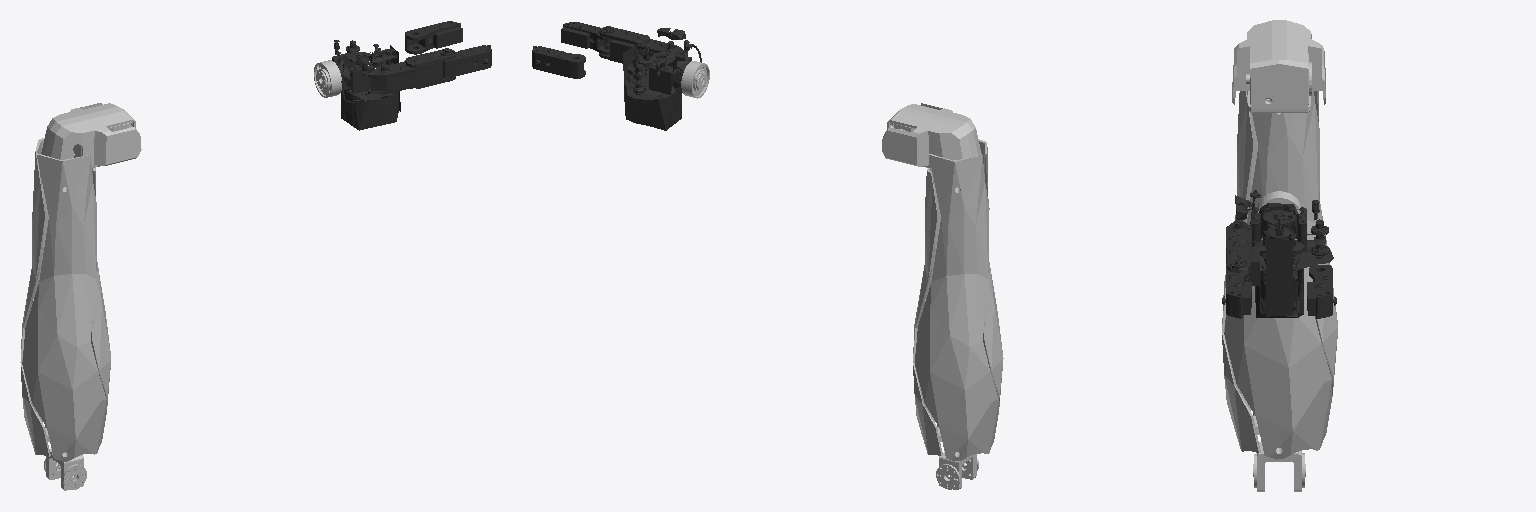
robot.urdf — QARM:
<?xml version="1.0" encoding="utf-8"?>
<!--
  GENERATED by course_project scripts/model/build_qarm_v2.py - do not edit by hand.
  Meshes and arm kinematics: Quanser QArm URDF representations (BSD-3, see LICENSE).
  Arm inertias: Quanser QArm 'Dynamic Parameters'; limits: QArm User Manual Table 7.
  Gripper frames: LuoShaoyinn/mmic-project 2b8ab95. Collision: boxes/cylinders/spheres enclosing the
  full-resolution official meshes, profile coarse-arm, buried primitives pruned (collision is never
  smaller than the visual mesh: every vertex is inside its own or, over the whole joint range, an
  adjacent link's primitives).
-->
<robot name="QARM">
  <material name="qarm_dark_grey">
    <color rgba="0.25 0.25 0.25 1" />
  </material>
  <material name="qarm_light_grey">
    <color rgba="0.80 0.80 0.80 1" />
  </material>
  <link name="world" />
  <joint name="world_base_joint" type="fixed">
    <origin rpy="0 0 0" xyz="0 0 0" />
    <parent link="world" />
    <child link="base_link" />
  </joint>
  <link name="base_link">
    <inertial>
      <origin xyz="0.000529200576288575 -2.23307396420992E-06 0.0267852902177001" rpy="0 0 0" />
      <mass value="3.89847036294307" />
      <inertia ixx="0.0259717926187233" ixy="7.41706820354147E-07" ixz="-9.20327430275286E-08" iyy="0.0237418182185852" iyz="6.90408382921997E-11" izz="0.048730018421969" />
    </inertial>
    <visual>
      <origin xyz="0 0 0" rpy="0 -0 0" />
      <geometry>
        <mesh filename="meshes/visual/base_link.stl" />
      </geometry>
      <material name="qarm_light_grey" />
    </visual>
    <collision>
      <origin xyz="-2.895575e-18 -2.895575e-18 0.04728834" rpy="1.570796 1.570796 0" />
      <geometry>
        <box size="0.09586612 0.295675 0.335675" />
      </geometry>
    </collision>
  </link>
  <link name="YAW">
    <inertial>
      <origin xyz="0 0.0003 0.1001" rpy="0 0 0" />
      <mass value="0.7906" />
      <inertia ixx="0.001556" ixy="0" ixz="0" iyy="0.0009624" iyz="-3.22449502e-20" izz="0.001489" />
    </inertial>
    <visual>
      <origin xyz="0 0 0" rpy="0 -0 0" />
      <geometry>
        <mesh filename="meshes/visual/YAW.stl" />
      </geometry>
      <material name="qarm_light_grey" />
    </visual>
    <collision>
      <origin xyz="0 -0 0.1293119" rpy="1.570796 -0 6.123234e-17" />
      <geometry>
        <box size="0.04868893 0.0677309 0.152806" />
      </geometry>
    </collision>
    <collision>
      <origin xyz="0 0 0.08895461" rpy="3.141593 0 -1.570796" />
      <geometry>
        <cylinder radius="0.07145107" length="0.02026642" />
      </geometry>
    </collision>
  </link>
  <joint name="YAW" type="revolute">
    <origin xyz="0 0 0" rpy="0 0 0" />
    <parent link="base_link" />
    <child link="YAW" />
    <axis xyz="0 0 1" />
    <limit lower="-2.967060" upper="2.967060" effort="10.6" velocity="1.570796" />
  </joint>
  <link name="BICEP">
    <inertial>
      <origin xyz="0.0196085505 -0.246382898 -0.0001" rpy="0 0 0" />
      <mass value="0.4591" />
      <inertia ixx="0.009354024" ixy="0.001308832" ixz="4.64990535e-18" iyy="0.000379176" iyz="-3.27944747e-17" izz="0.00961" />
    </inertial>
    <visual>
      <origin xyz="0 0 0" rpy="0 -0 0" />
      <geometry>
        <mesh filename="meshes/visual/BICEP.stl" />
      </geometry>
      <material name="qarm_light_grey" />
    </visual>
    <collision>
      <origin xyz="0.01756464 -0.3327599 2.538785e-06" rpy="-6.123234e-17 -1.570796 0" />
      <geometry>
        <box size="0.07148836 0.07938018 0.1010919" />
      </geometry>
    </collision>
    <collision>
      <origin xyz="0.0002518238 -0.2508797 0.001066028" rpy="3.124266 1.54754 -1.570796" />
      <geometry>
        <cylinder radius="0.03465584" length="0.1002454" />
      </geometry>
    </collision>
    <collision>
      <origin xyz="-0.0009906459 -0.1211929 0.001161547" rpy="3.024574 -1.567336 -1.570796" />
      <geometry>
        <cylinder radius="0.04724006" length="0.1785811" />
      </geometry>
    </collision>
    <collision>
      <origin xyz="0.003015744 -0.02460595 -0.0004855166" rpy="-0.1450113 -1.555297 1.570796" />
      <geometry>
        <cylinder radius="0.03723188" length="0.02758156" />
      </geometry>
    </collision>
  </link>
  <joint name="SHOULDER" type="revolute">
    <origin xyz="0 0 0.1397714" rpy="-1.5707963267949 0 0" />
    <parent link="YAW" />
    <child link="BICEP" />
    <axis xyz="0 0 1" />
    <limit lower="-1.483530" upper="1.483530" effort="21.2" velocity="1.570796" />
  </joint>
  <link name="FOREARM">
    <inertial>
      <origin xyz="0.0316077014 0.153169426 -0.002" rpy="0 0 0" />
      <mass value="0.269" />
      <inertia ixx="0.002032978" ixy="-0.000252154" ixz="-3.41873056e-19" iyy="0.000303922" iyz="-5.68138162e-20" izz="0.001976" />
    </inertial>
    <visual>
      <origin xyz="0 0 0" rpy="0 -0 0" />
      <geometry>
        <mesh filename="meshes/visual/FOREARM.stl" />
      </geometry>
      <material name="qarm_light_grey" />
    </visual>
    <collision>
      <origin xyz="0.0124297 0.08177845 0.0002797372" rpy="0.152174 1.566863 1.570796" />
      <geometry>
        <cylinder radius="0.03232471" length="0.1920151" />
      </geometry>
    </collision>
    <collision>
      <origin xyz="0.08001431 0.2088195 5.882925e-05" rpy="-2.708859e-20 0.00378953 3.106735" />
      <geometry>
        <box size="0.02469205 0.04413417 0.09927912" />
      </geometry>
    </collision>
    <collision>
      <origin xyz="0.03909324 0.202416 0.002087744" rpy="-3.141593 0 3.002517" />
      <geometry>
        <box size="0.06530222 0.06939311 0.07617549" />
      </geometry>
    </collision>
  </link>
  <joint name="ELBOW" type="revolute">
    <origin xyz="0.0500000000000004 -0.350000000000015 0" rpy="0 0 -1.42889927219074" />
    <parent link="BICEP" />
    <child link="FOREARM" />
    <axis xyz="0 0 1" />
    <limit lower="-1.658063" upper="1.308997" effort="10.6" velocity="1.570796" />
  </joint>
  <link name="END-EFFECTOR">
    <inertial>
      <origin xyz="-0.0113743 9.67484374e-16 0.0622" rpy="0 0 0" />
      <mass value="0.257" />
      <inertia ixx="0.00112" ixy="4.2845727e-19" ixz="1.23190347e-18" iyy="0.0009994" iyz="1.23137056e-18" izz="0.0006528" />
    </inertial>
    <visual>
      <origin xyz="0 0 0" rpy="0 -0 0" />
      <geometry>
        <mesh filename="meshes/visual/END-EFFECTOR.stl" />
      </geometry>
      <material name="qarm_light_grey" />
    </visual>
    <collision>
      <origin xyz="0 0 0.0048" rpy="3.141593 0 -1.570796" />
      <geometry>
        <cylinder radius="0.0177" length="0.0148" />
      </geometry>
    </collision>
  </link>
  <joint name="WRIST" type="revolute">
    <origin xyz="0.0336611536380097 0.235607569369425 0" rpy="-1.5707963267949 0 -0.141897054604159" />
    <parent link="FOREARM" />
    <child link="END-EFFECTOR" />
    <axis xyz="0 0 1" />
    <limit lower="-2.792527" upper="2.792527" effort="4.1" velocity="1.570796" />
  </joint>
  <link name="tcp">
    <inertial>
      <origin xyz="0 0 0" rpy="0 0 0" />
      <mass value="0.0001" />
      <inertia ixx="1e-09" ixy="0" ixz="0" iyy="1e-09" iyz="0" izz="1e-09" />
    </inertial>
  </link>
  <joint name="tcp_joint" type="fixed">
    <origin xyz="0 0 0.162" rpy="0 0 0" />
    <parent link="END-EFFECTOR" />
    <child link="tcp" />
  </joint>
  <link name="gripper_base_link">
    <inertial>
      <origin xyz="0 0.0457249992 -0.0114812497" rpy="0 0 0" />
      <mass value="0.005" />
      <inertia ixx="1e-07" ixy="0" ixz="0" iyy="1e-07" iyz="0" izz="1e-07" />
    </inertial>
    <visual>
      <origin xyz="0 0.017 0" rpy="-1.57079633 0 0" />
      <geometry>
        <mesh filename="meshes/visual/gripper_base_link.stl" />
      </geometry>
      <material name="qarm_dark_grey" />
    </visual>
    <collision>
      <origin xyz="0.0001747752 0.07822772 -0.03612225" rpy="1.564767 0.006030566 1.570796" />
      <geometry>
        <box size="0.01180058 0.03423404 0.03900235" />
      </geometry>
    </collision>
    <collision>
      <origin xyz="0.007270592 0.05147455 -0.03702257" rpy="-1.600924 -1.569901 1.570796" />
      <geometry>
        <box size="0.03624421 0.05154783 0.05490388" />
      </geometry>
    </collision>
    <collision>
      <origin xyz="0.01351203 0.02825289 0.001173181" rpy="0.1590071 0.03895764 -2.345292" />
      <geometry>
        <box size="0.03011996 0.03774931 0.05125755" />
      </geometry>
    </collision>
    <collision>
      <origin xyz="-0.03514803 0.05292195 0.001020494" rpy="4.543422e-17 0.177789 -0.7520336" />
      <geometry>
        <box size="0.009530679 0.01521615 0.0342406" />
      </geometry>
    </collision>
    <collision>
      <origin xyz="0.03179818 0.04399984 -0.008989801" rpy="0.8277827 1.069491 0.05703531" />
      <geometry>
        <box size="0.01978639 0.02944578 0.0368748" />
      </geometry>
    </collision>
    <collision>
      <origin xyz="0.02628574 0.04761301 0.01110825" rpy="-3.141593 -1.14541e-16 -0.1161816" />
      <geometry>
        <box size="0.02221351 0.03511971 0.0421085" />
      </geometry>
    </collision>
    <collision>
      <origin xyz="-0.01004185 0.06853301 -0.004551729" rpy="1.59332 0.02678489 2.270132" />
      <geometry>
        <box size="0.02466603 0.04040142 0.05152688" />
      </geometry>
    </collision>
    <collision>
      <origin xyz="0.005186026 0.05420838 0.0004283725" rpy="1.59144 -3.757793e-17 -0.8178233" />
      <geometry>
        <box size="0.02688403 0.04861659 0.05356512" />
      </geometry>
    </collision>
    <collision>
      <origin xyz="-0.01260645 0.02355968 -0.003496479" rpy="1.370168 -0.09838188 -2.413349" />
      <geometry>
        <box size="0.02470633 0.04818149 0.05575973" />
      </geometry>
    </collision>
    <collision>
      <origin xyz="-0.02973278 0.04750178 -0.0006308756" rpy="-2.916904 -0.2347575 2.22631" />
      <geometry>
        <box size="0.011819 0.02037275 0.03431789" />
      </geometry>
    </collision>
  </link>
  <joint name="gripper_mount" type="fixed">
    <origin xyz="0 0 0" rpy="1.57079633 0 1.57079633" />
    <parent link="END-EFFECTOR" />
    <child link="gripper_base_link" />
  </joint>
  <link name="Link1A">
    <inertial>
      <origin xyz="0.031641642 -0.00293167261 -2.68506468e-19" rpy="0 0 0" />
      <mass value="0.005" />
      <inertia ixx="1e-07" ixy="0" ixz="0" iyy="1e-07" iyz="0" izz="1e-07" />
    </inertial>
    <visual>
      <origin xyz="0.0353 0 0" rpy="1.57079633 1.2246468e-16 -3.14159265" />
      <geometry>
        <mesh filename="meshes/visual/LINK1A.stl" />
      </geometry>
      <material name="qarm_dark_grey" />
    </visual>
    <collision>
      <origin xyz="0.001880768 -2.03802e-05 -8.806878e-18" rpy="-1.570796 -5.77271e-17 -1.585083" />
      <geometry>
        <box size="0.02039559 0.0237 0.0394601" />
      </geometry>
    </collision>
    <collision>
      <origin xyz="0.07229242 0.0001745417 3.314327e-18" rpy="-6.534135e-17 -1.815548e-16 0.03384539" />
      <geometry>
        <box size="0.01909041 0.02061038 0.0363732" />
      </geometry>
    </collision>
    <collision>
      <origin xyz="0.04251507 -0.003300787 -0.002090328" rpy="1.578228 -5.772855e-17 -1.585083" />
      <geometry>
        <box size="0.02579476 0.02600035 0.05228032" />
      </geometry>
    </collision>
    <collision>
      <origin xyz="0.04182102 0.0003232787 0.01233788" rpy="-3.512906e-14 -1.569004 0.01425238" />
      <geometry>
        <box size="0.005409164 0.01985234 0.05049457" />
      </geometry>
    </collision>
  </link>
  <joint name="Joint1A" type="revolute">
    <origin xyz="-0.0305 0.0515 0" rpy="0 0 1.57079633" />
    <parent link="gripper_base_link" />
    <child link="Link1A" />
    <axis xyz="0 0 1" />
    <limit lower="-0.1616" upper="0.0500" effort="1.9" velocity="2.0" />
  </joint>
  <link name="Link2A">
    <inertial>
      <origin xyz="0.020667342 0.0016840014 -0.000175000504" rpy="0 0 0" />
      <mass value="0.003" />
      <inertia ixx="1e-07" ixy="0" ixz="0" iyy="1e-07" iyz="0" izz="1e-07" />
    </inertial>
    <visual>
      <origin xyz="0.02 0.01 -0.015" rpy="1.57079633 1.2246468e-16 -3.14159265" />
      <geometry>
        <mesh filename="meshes/visual/LINK2A.stl" />
      </geometry>
      <material name="qarm_dark_grey" />
    </visual>
    <collision>
      <origin xyz="0.02061175 0.001503913 -0.0001750005" rpy="-0.02782493 1.570796 0" />
      <geometry>
        <box size="0.0217 0.02303058 0.05918772" />
      </geometry>
    </collision>
  </link>
  <joint name="Joint2A" type="revolute">
    <origin xyz="0.07 0 0" rpy="0 0 0" />
    <parent link="Link1A" />
    <child link="Link2A" />
    <axis xyz="0 0 1" />
    <limit lower="-0.1257" upper="0.0500" effort="1.9" velocity="2.0" />
  </joint>
  <link name="Link1B">
    <inertial>
      <origin xyz="0.031641642 0.00293167261 0.000175000089" rpy="0 0 0" />
      <mass value="0.005" />
      <inertia ixx="1e-07" ixy="0" ixz="0" iyy="1e-07" iyz="0" izz="1e-07" />
    </inertial>
    <visual>
      <origin xyz="0.0353 0 0.017" rpy="-1.57079633 0 3.14159265" />
      <geometry>
        <mesh filename="meshes/visual/LINK1B.stl" />
      </geometry>
      <material name="qarm_dark_grey" />
    </visual>
    <collision>
      <origin xyz="0.003285769 4.045369e-05 0.001" rpy="-1.570796 5.94766e-17 1.585083" />
      <geometry>
        <box size="0.02039559 0.02205 0.04227039" />
      </geometry>
    </collision>
    <collision>
      <origin xyz="0.04281185 0.003305027 0.0004284998" rpy="-1.570796 1.215774e-16 1.585083" />
      <geometry>
        <box size="0.02579476 0.029543 0.0484313" />
      </geometry>
    </collision>
    <collision>
      <origin xyz="0.0694505 8.839648e-05 -0.00931391" rpy="-1.570796 -0 3.141593" />
      <geometry>
        <sphere radius="0.01072086" />
      </geometry>
    </collision>
    <collision>
      <origin xyz="0.07140457 0.002060662 0.00856829" rpy="3.061751 -0.07754674 1.488037" />
      <geometry>
        <box size="0.01476701 0.01726665 0.01854675" />
      </geometry>
    </collision>
    <collision>
      <origin xyz="0.0708884 -0.006294471 0.01211175" rpy="-3.078942 -1.570796 0" />
      <geometry>
        <box size="0.0051625 0.005741029 0.01643748" />
      </geometry>
    </collision>
  </link>
  <joint name="Joint1B" type="revolute">
    <origin xyz="0.0305 0.0515 0" rpy="0 0 1.57079633" />
    <parent link="gripper_base_link" />
    <child link="Link1B" />
    <axis xyz="0 0 1" />
    <limit lower="-0.0500" upper="0.1616" effort="1.9" velocity="2.0" />
  </joint>
  <link name="Link2B">
    <inertial>
      <origin xyz="0.020667342 -0.0016840014 0.000175000504" rpy="0 0 0" />
      <mass value="0.003" />
      <inertia ixx="1e-07" ixy="0" ixz="0" iyy="1e-07" iyz="0" izz="1e-07" />
    </inertial>
    <visual>
      <origin xyz="0.02 -0.01 0.015" rpy="-1.57079633 0 3.14159265" />
      <geometry>
        <mesh filename="meshes/visual/LINK2B.stl" />
      </geometry>
      <material name="qarm_dark_grey" />
    </visual>
    <collision>
      <origin xyz="0.02061175 -0.001503913 0.0001750005" rpy="3.113768 -1.570796 0" />
      <geometry>
        <box size="0.0217 0.02303058 0.05918772" />
      </geometry>
    </collision>
  </link>
  <joint name="Joint2B" type="revolute">
    <origin xyz="0.07 0 0" rpy="0 0 0" />
    <parent link="Link1B" />
    <child link="Link2B" />
    <axis xyz="0 0 -1" />
    <limit lower="-0.1257" upper="0.0500" effort="1.9" velocity="2.0" />
  </joint>
</robot>

--- Facts derived from the render (not from the file) ---
Views: 3 orthographic renders of the robot side by side, from view 1: azimuth 30°, elevation 25°; view 2: azimuth 150°, elevation 25°; view 3: azimuth 270°, elevation 25°.
Model QARM with 12 links and 11 joints (8 revolute, 3 fixed), rooted at world, posed all joints at 0.
Visible links, largest first — view 1: BICEP, gripper_base_link, Link1B, Link2A, Link2B, END-EFFECTOR; view 2: BICEP, gripper_base_link, Link1B, Link2A, Link2B, END-EFFECTOR; view 3: BICEP, gripper_base_link, Link1B, Link2A, Link2B.
Link boxes in pixels (left/top/right/bottom): BICEP: left=20, top=103, right=141, bottom=490; gripper_base_link: left=332, top=40, right=400, bottom=130; Link1B: left=368, top=48, right=455, bottom=93; Link2A: left=405, top=21, right=462, bottom=54; Link2B: left=443, top=45, right=491, bottom=77; END-EFFECTOR: left=314, top=60, right=341, bottom=97; BICEP: left=882, top=103, right=1003, bottom=489; gripper_base_link: left=623, top=28, right=701, bottom=130; Link1B: left=594, top=26, right=684, bottom=65; Link2A: left=532, top=46, right=585, bottom=78; Link2B: left=561, top=22, right=611, bottom=54; END-EFFECTOR: left=681, top=61, right=709, bottom=98; BICEP: left=1222, top=20, right=1337, bottom=491; gripper_base_link: left=1230, top=190, right=1333, bottom=317; Link1B: left=1226, top=220, right=1259, bottom=285; Link2A: left=1307, top=265, right=1336, bottom=318; Link2B: left=1222, top=267, right=1251, bottom=318.
Size in the robot's own frame: 0.5035 by 0.0884 by 0.3944 metres.
6 mesh visuals loaded from 10 distinct referenced files (6 binary STL); not drawn: 4 (reference not matched to a file when rendering).
